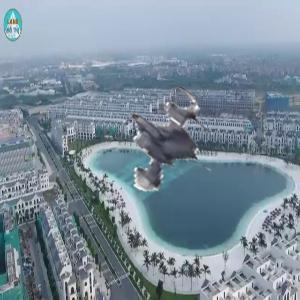drone: (118, 91, 244, 217)
